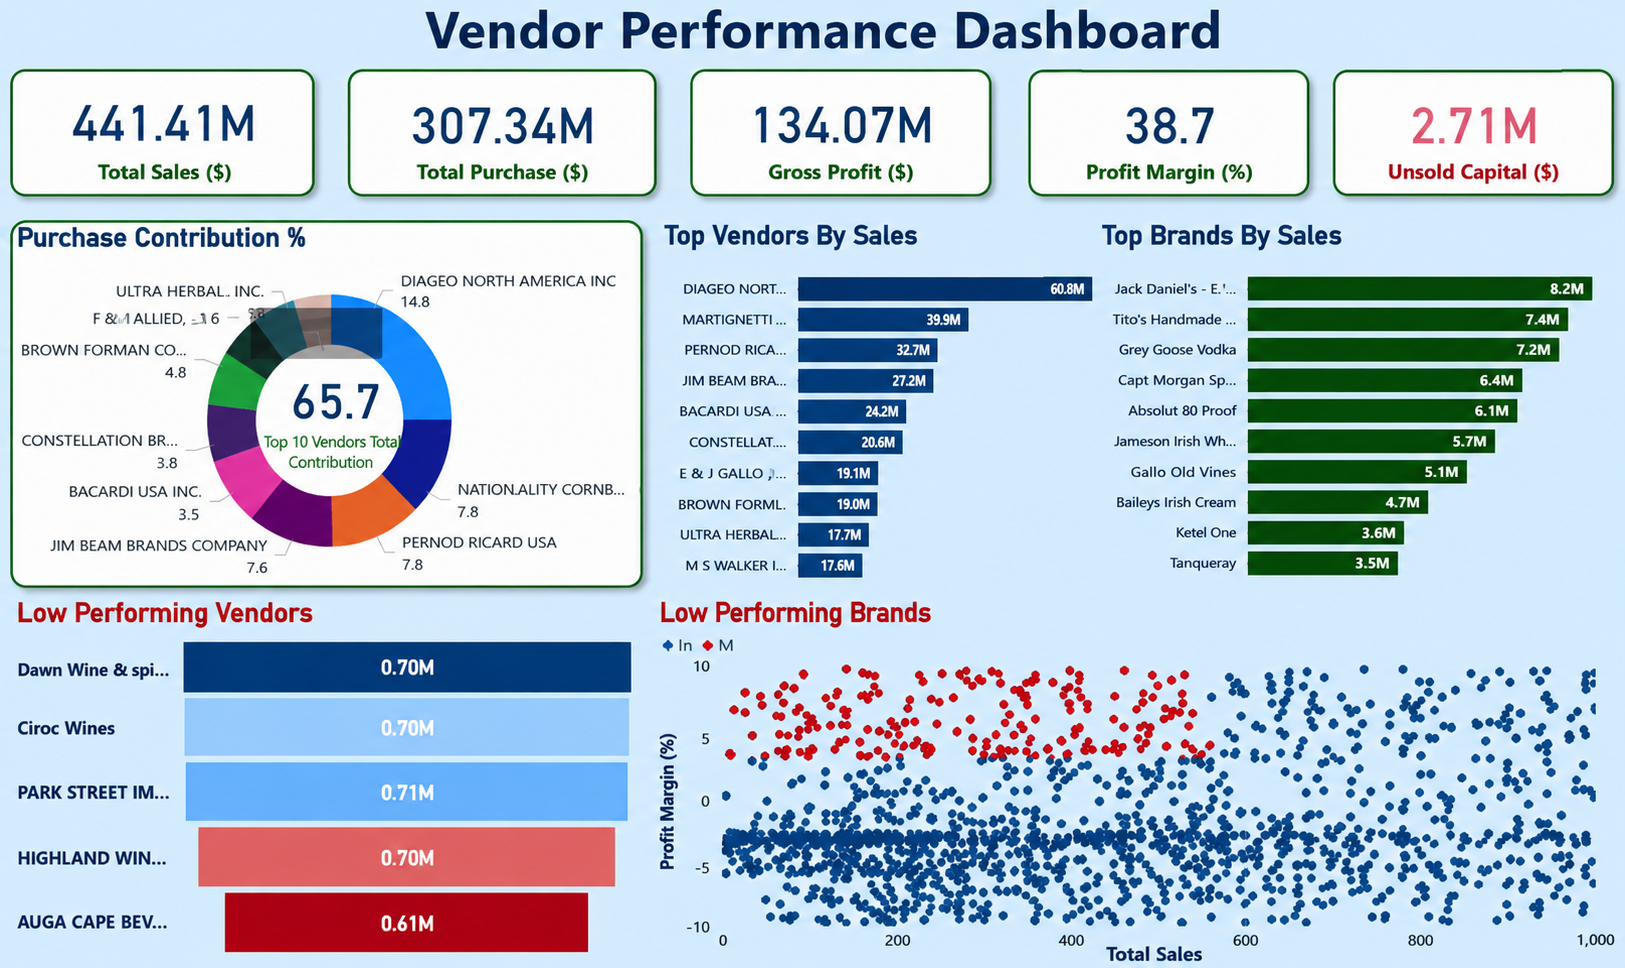

Layout of this report page (visuals, bound fields, positions):
{"tool":"powerbi","page":{"name":"Page 1","canvas":[1500,900],"ordinal":0},"visuals":[{"type":"card","fields":{"Values":["Sum(vendor_sales_summary.TotalPurchaseDollars)"]},"box":[315.8,82.4,280.9,114.6],"z":0},{"type":"card","fields":{"Values":["Sum(vendor_sales_summary.TotalSalesDollars)"]},"box":[16.8,81,266.9,116],"z":1000},{"type":"card","fields":{"Values":["Sum(vendor_sales_summary.GrossProfit)"]},"box":[630.2,81,269.7,116],"z":2000},{"type":"card","fields":{"Values":["Avg(vendor_sales_summary.ProfitMargin)"]},"box":[934.8,82.4,252.9,114.6],"z":3000},{"type":"card","fields":{"Values":["Sum(vendor_sales_summary.UnsoldCapital)"]},"box":[1210.1,81,268.3,116],"z":4000},{"type":"textbox","box":[0,0,1500,83],"z":5000},{"type":"donutChart","title":"Purchase Contribution % ","fields":{"Category":["PurchaseContribution.VendorName"],"Y":["Sum(PurchaseContribution.PurchaseContribution%)"]},"box":[14.5,219.4,571,322.6],"z":6000},{"type":"card","fields":{"Values":["Sum(PurchaseContribution.PurchaseContribution%)"]},"box":[211.8,266.7,188.2,233.3],"z":7000},{"type":"barChart","title":"Top Vendors By Sales","fields":{"Category":["vendor_sales_summary.VendorName"],"Y":["Sum(vendor_sales_summary.TotalSalesDollars)"]},"box":[597.3,219.2,447.9,332.9],"z":8000},{"type":"barChart","title":"Top Brands By Sales","fields":{"Category":["vendor_sales_summary.Description"],"Y":["Sum(vendor_sales_summary.TotalSalesDollars)"]},"box":[995.9,219.2,504.1,332.9],"z":9000},{"type":"funnel","title":"Low Performing Vendors","fields":{"Category":["LowTurnoverVendor.VendorName"],"Y":["Avg(LowTurnoverVendor.AvgStockTurnOver)"]},"box":[16.1,551.6,569.4,348.4],"z":10000},{"type":"scatterChart","title":"Low Performing Brands","fields":{"X":["Sum(BrandPerformance.TotalSales)"],"Y":["Sum(BrandPerformance.AvgProfitMargin)"],"Series":["BrandPerformance.TargetBrand"],"Category":["BrandPerformance.Description"]},"box":[596.8,551.6,880.6,348.4],"z":11000}]}

Visuals, with their boxes in screenshot pixels (x1, y1, x2, y2), scaled from the page's 1500x900 canvas onto the 1625x968 screenshot:
card - Sum(vendor_sales_summary.TotalPurchaseDollars): (x1=342, y1=89, x2=646, y2=212)
card - Sum(vendor_sales_summary.TotalSalesDollars): (x1=18, y1=87, x2=307, y2=212)
card - Sum(vendor_sales_summary.GrossProfit): (x1=683, y1=87, x2=975, y2=212)
card - Avg(vendor_sales_summary.ProfitMargin): (x1=1013, y1=89, x2=1287, y2=212)
card - Sum(vendor_sales_summary.UnsoldCapital): (x1=1311, y1=87, x2=1602, y2=212)
textbox: (x1=0, y1=0, x2=1624, y2=89)
"Purchase Contribution % " donutChart: (x1=16, y1=236, x2=634, y2=583)
card - Sum(PurchaseContribution.PurchaseContribution%): (x1=229, y1=287, x2=433, y2=538)
"Top Vendors By Sales" barChart: (x1=647, y1=236, x2=1132, y2=594)
"Top Brands By Sales" barChart: (x1=1079, y1=236, x2=1624, y2=594)
"Low Performing Vendors" funnel: (x1=17, y1=593, x2=634, y2=967)
"Low Performing Brands" scatterChart: (x1=647, y1=593, x2=1601, y2=967)
